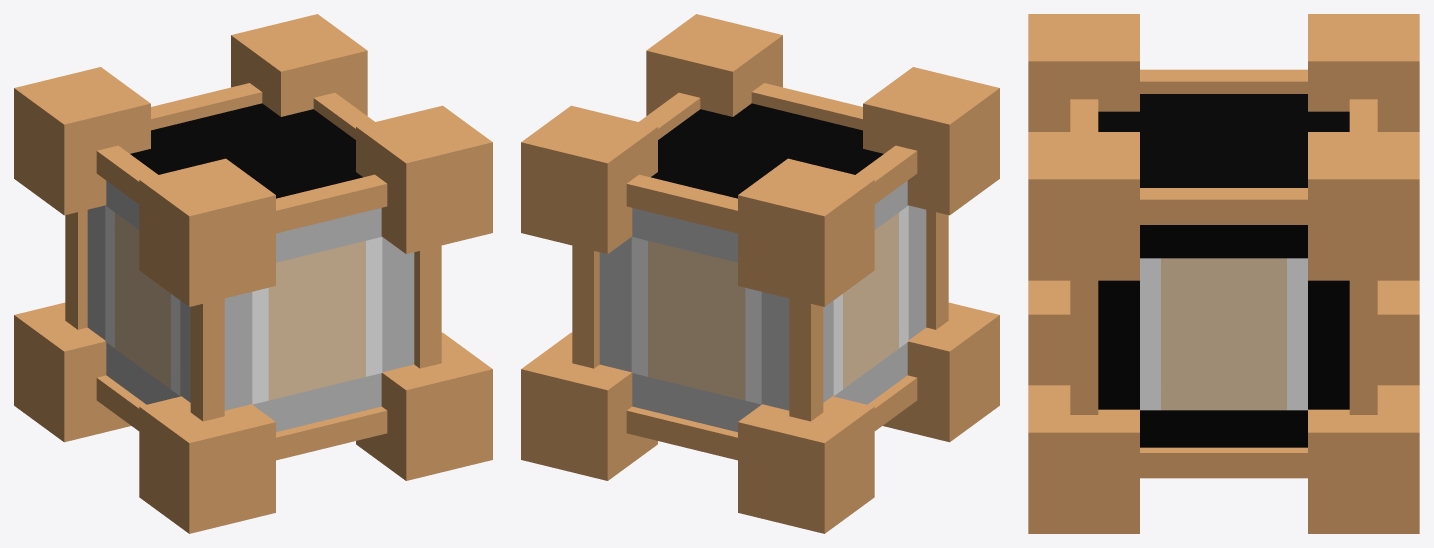
Rendered from BonusHourglass.obj.
3 renders of one model, left to right at view 1: azimuth 30°, elevation 25°; view 2: azimuth 150°, elevation 25°; view 3: azimuth 270°, elevation 25°, orthographic. The views are drawn at different scales.
Visible parts, largest first — view 1: bonusTime; view 2: bonusTime; view 3: bonusTime.
Part boxes in pixels (x1,y1,x2,y2): bonusTime: [14, 14, 492, 533]; bonusTime: [521, 14, 999, 533]; bonusTime: [1028, 14, 1419, 533].
Bounding box in the file's own units: 2.8 × 2.8 × 2.8.
